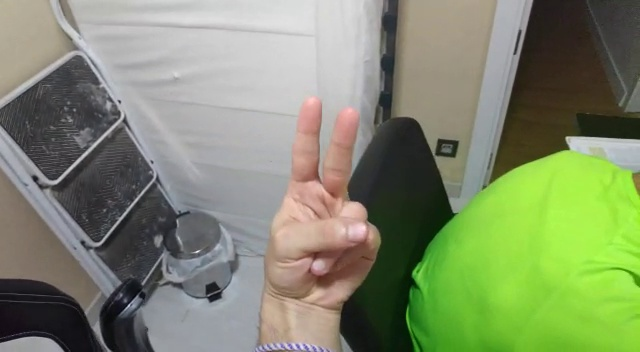Peace: (253, 92, 390, 305)
